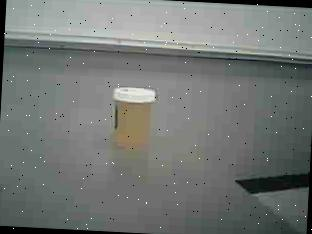Bottle B: (102, 79, 165, 157)
